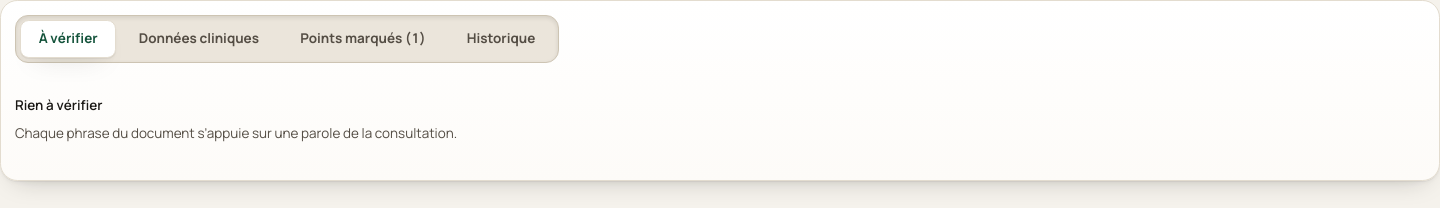
Test case: points marqués › montre ce qui se disait autour du moment marqué
What coordinates should you click on to do the following:
click the tab "Points marqués (1)"
I would click on:
 (363, 39)
Its box is [282,20,444,58].
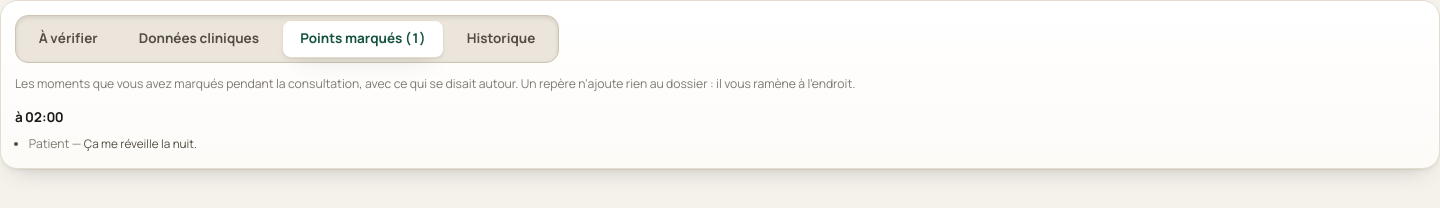
Now the list item "Ça me réveille la nuit." is shown, box [84,136,197,152]
